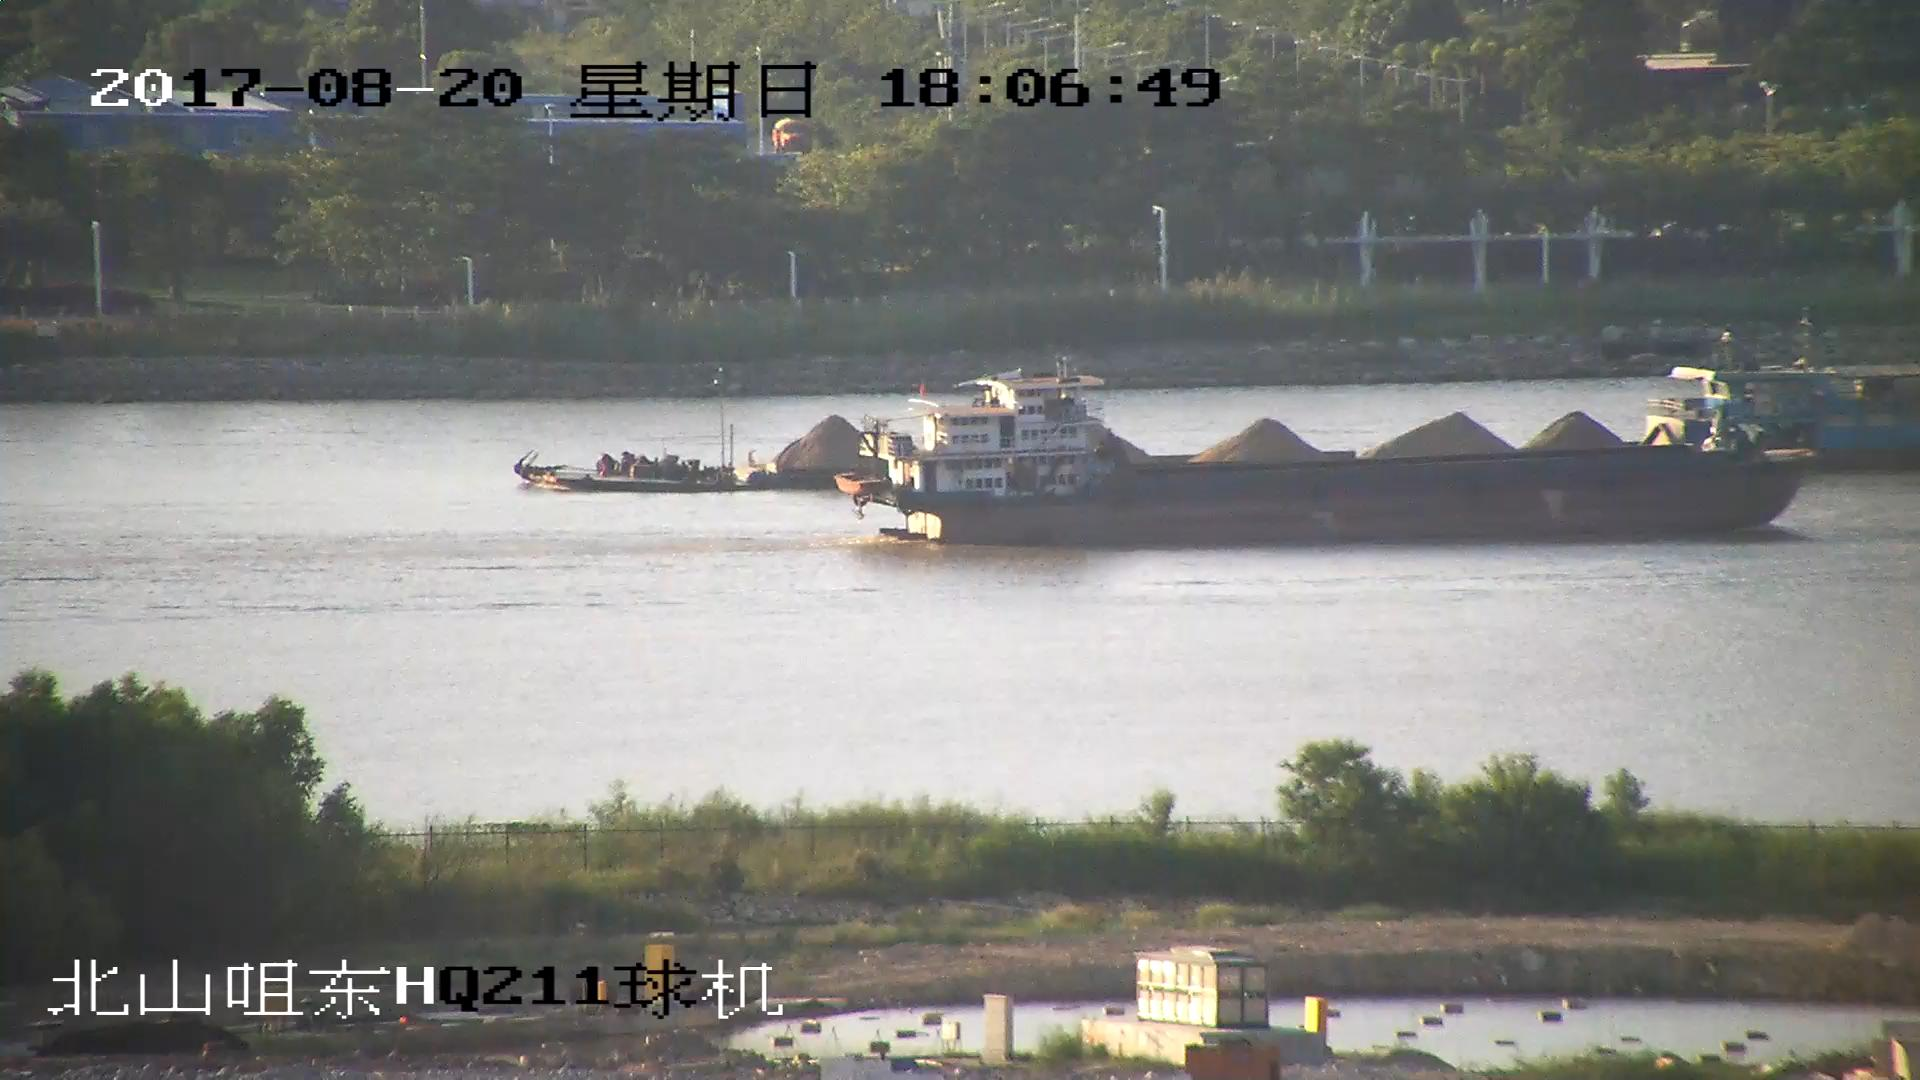bulk cargo carrier: (844, 361, 1819, 544)
ore carrier: (508, 333, 1920, 497)
